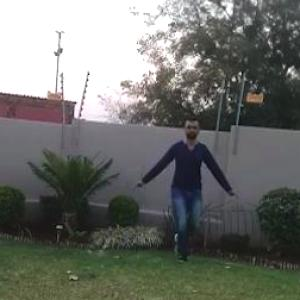land: (132, 120, 242, 266)
